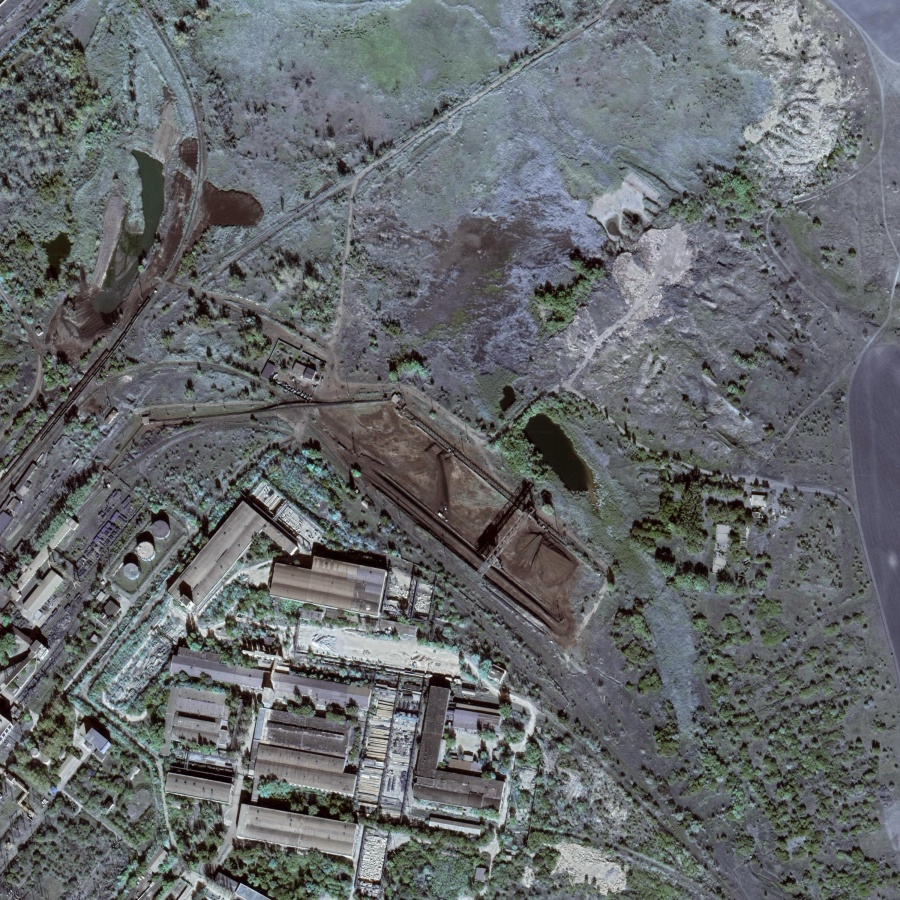PowerPlant: (294, 383, 584, 636)
